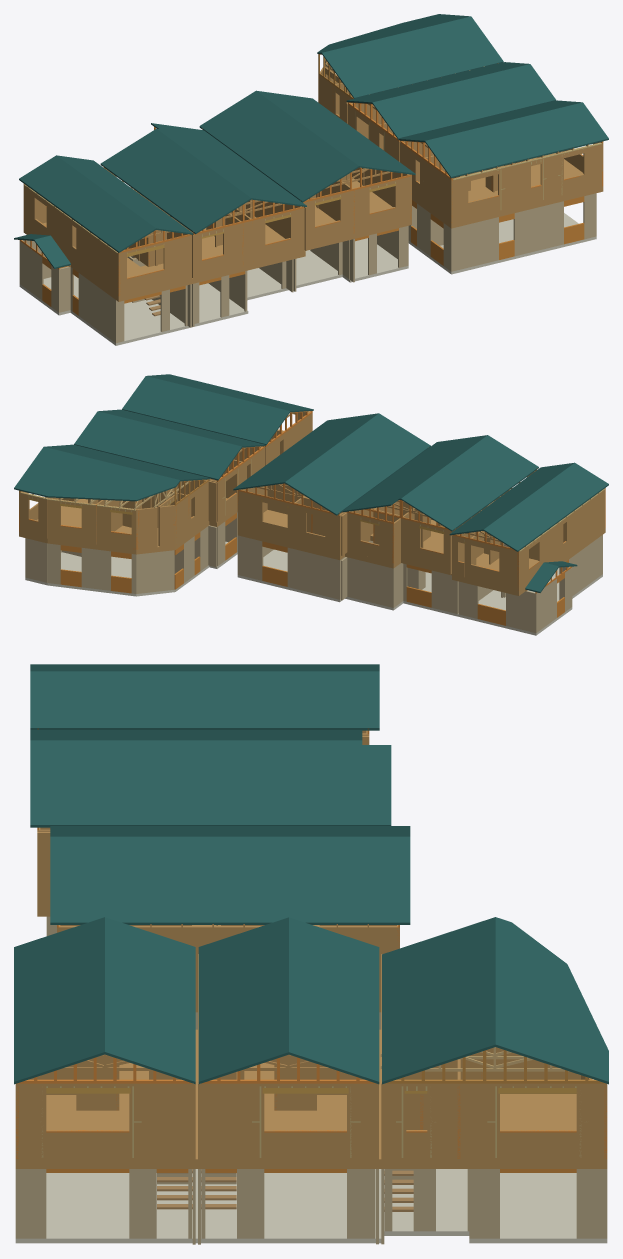
3 views of the same model, one above another, from view 1: azimuth 30°, elevation 25°; view 2: azimuth 150°, elevation 25°; view 3: azimuth 270°, elevation 25° (orthographic). The views are drawn at different scales.
Parts seen in each view (by area): view 1: ROOF-A3-0, ROOF-B4-0, ROOF-B5-0, ROOF-A1-0, ROOF-A2-0, GF-B-FLOOR, ROOF-B6-0, ROOF-B4-2, FF-B-FLOOR, ROOF-B5-2, ROOF-B6-2, GF-W016 (+35 smaller); view 2: ROOF-B4-0, ROOF-B5-0, ROOF-A1-2, ROOF-A2-2, ROOF-A3-2, ROOF-B6-0, ROOF-B4-2, ROOF-B5-2, FF-B-FLOOR, GF-B-FLOOR, GF-W085, ROOF-B6-2 (+46 smaller); view 3: ROOF-B4-2, ROOF-B5-2, GF-A-FLOOR, ROOF-B6-2, ROOF-A3-0, FF-A-FLOOR, ROOF-A1-0, ROOF-A1-2, ROOF-A2-0, ROOF-A2-2, ROOF-A3-2, ROOF-B4-0 (+28 smaller).
Boxes of the visible parts, <box> form: ROOF-A3-0: <box>322,16,503,98</box>; ROOF-B4-0: <box>199,91,358,202</box>; ROOF-B5-0: <box>100,129,251,234</box>; ROOF-A1-0: <box>425,102,608,178</box>; ROOF-A2-0: <box>372,64,556,139</box>; GF-B-FLOOR: <box>19,238,408,345</box>; ROOF-B6-0: <box>19,155,156,252</box>; ROOF-B4-2: <box>256,90,415,175</box>; FF-B-FLOOR: <box>23,178,411,301</box>; ROOF-B5-2: <box>151,123,306,206</box>; ROOF-B6-2: <box>57,155,193,234</box>; GF-W016: <box>513,201,563,256</box>; ROOF-B4-0: <box>285,413,430,515</box>; ROOF-B5-0: <box>401,435,538,531</box>; ROOF-A1-2: <box>122,376,289,445</box>; ROOF-A2-2: <box>74,411,241,480</box>; ROOF-A3-2: <box>14,447,180,501</box>; ROOF-B6-0: <box>483,463,608,551</box>; ROOF-B4-2: <box>233,413,378,490</box>; ROOF-B5-2: <box>342,435,487,512</box>; FF-B-FLOOR: <box>237,501,605,595</box>; GF-B-FLOOR: <box>237,549,602,635</box>; GF-W085: <box>287,547,338,599</box>; ROOF-B6-2: <box>449,462,574,535</box>; ROOF-B4-2: <box>50,836,410,924</box>; ROOF-B5-2: <box>30,740,391,827</box>; GF-A-FLOOR: <box>15,1169,607,1243</box>; ROOF-B6-2: <box>30,671,379,730</box>; ROOF-A3-0: <box>382,917,495,1084</box>; FF-A-FLOOR: <box>15,1029,607,1168</box>; ROOF-A1-0: <box>14,917,104,1084</box>; ROOF-A1-2: <box>105,917,195,1084</box>; ROOF-A2-0: <box>198,917,288,1083</box>; ROOF-A2-2: <box>289,917,379,1084</box>; ROOF-A3-2: <box>495,917,608,1084</box>; ROOF-B4-0: <box>50,826,410,836</box>.
Size of the model in its own units: 29.3 by 6.8 by 17.25.
